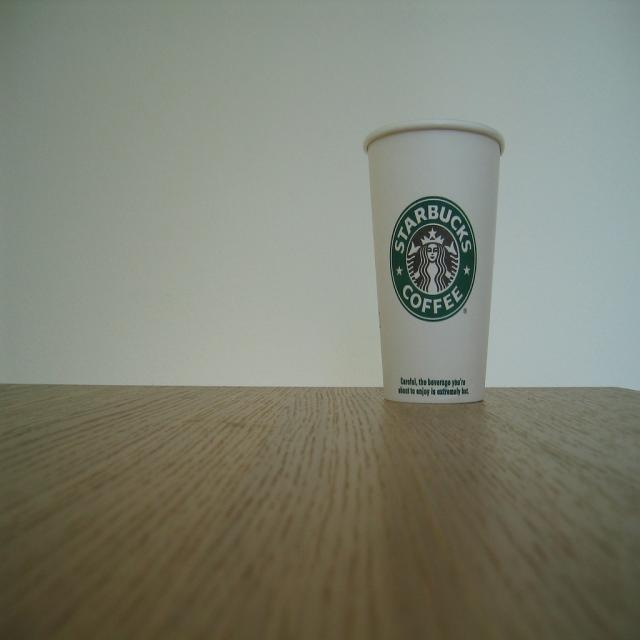starbucks: (390, 197, 478, 323)
